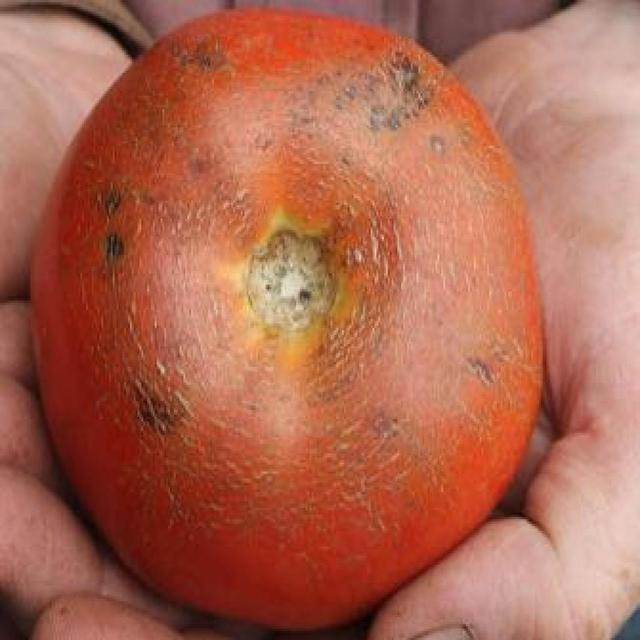Cracking Fruit: (40, 17, 355, 371)
